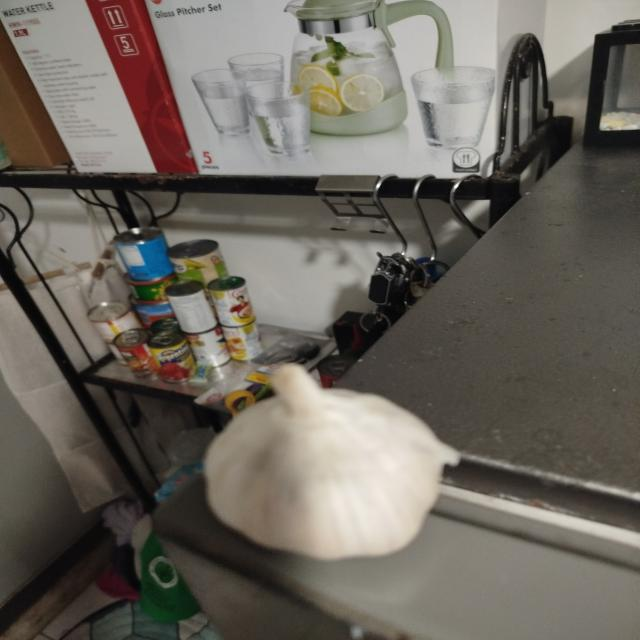garlic: (202, 362, 461, 561)
